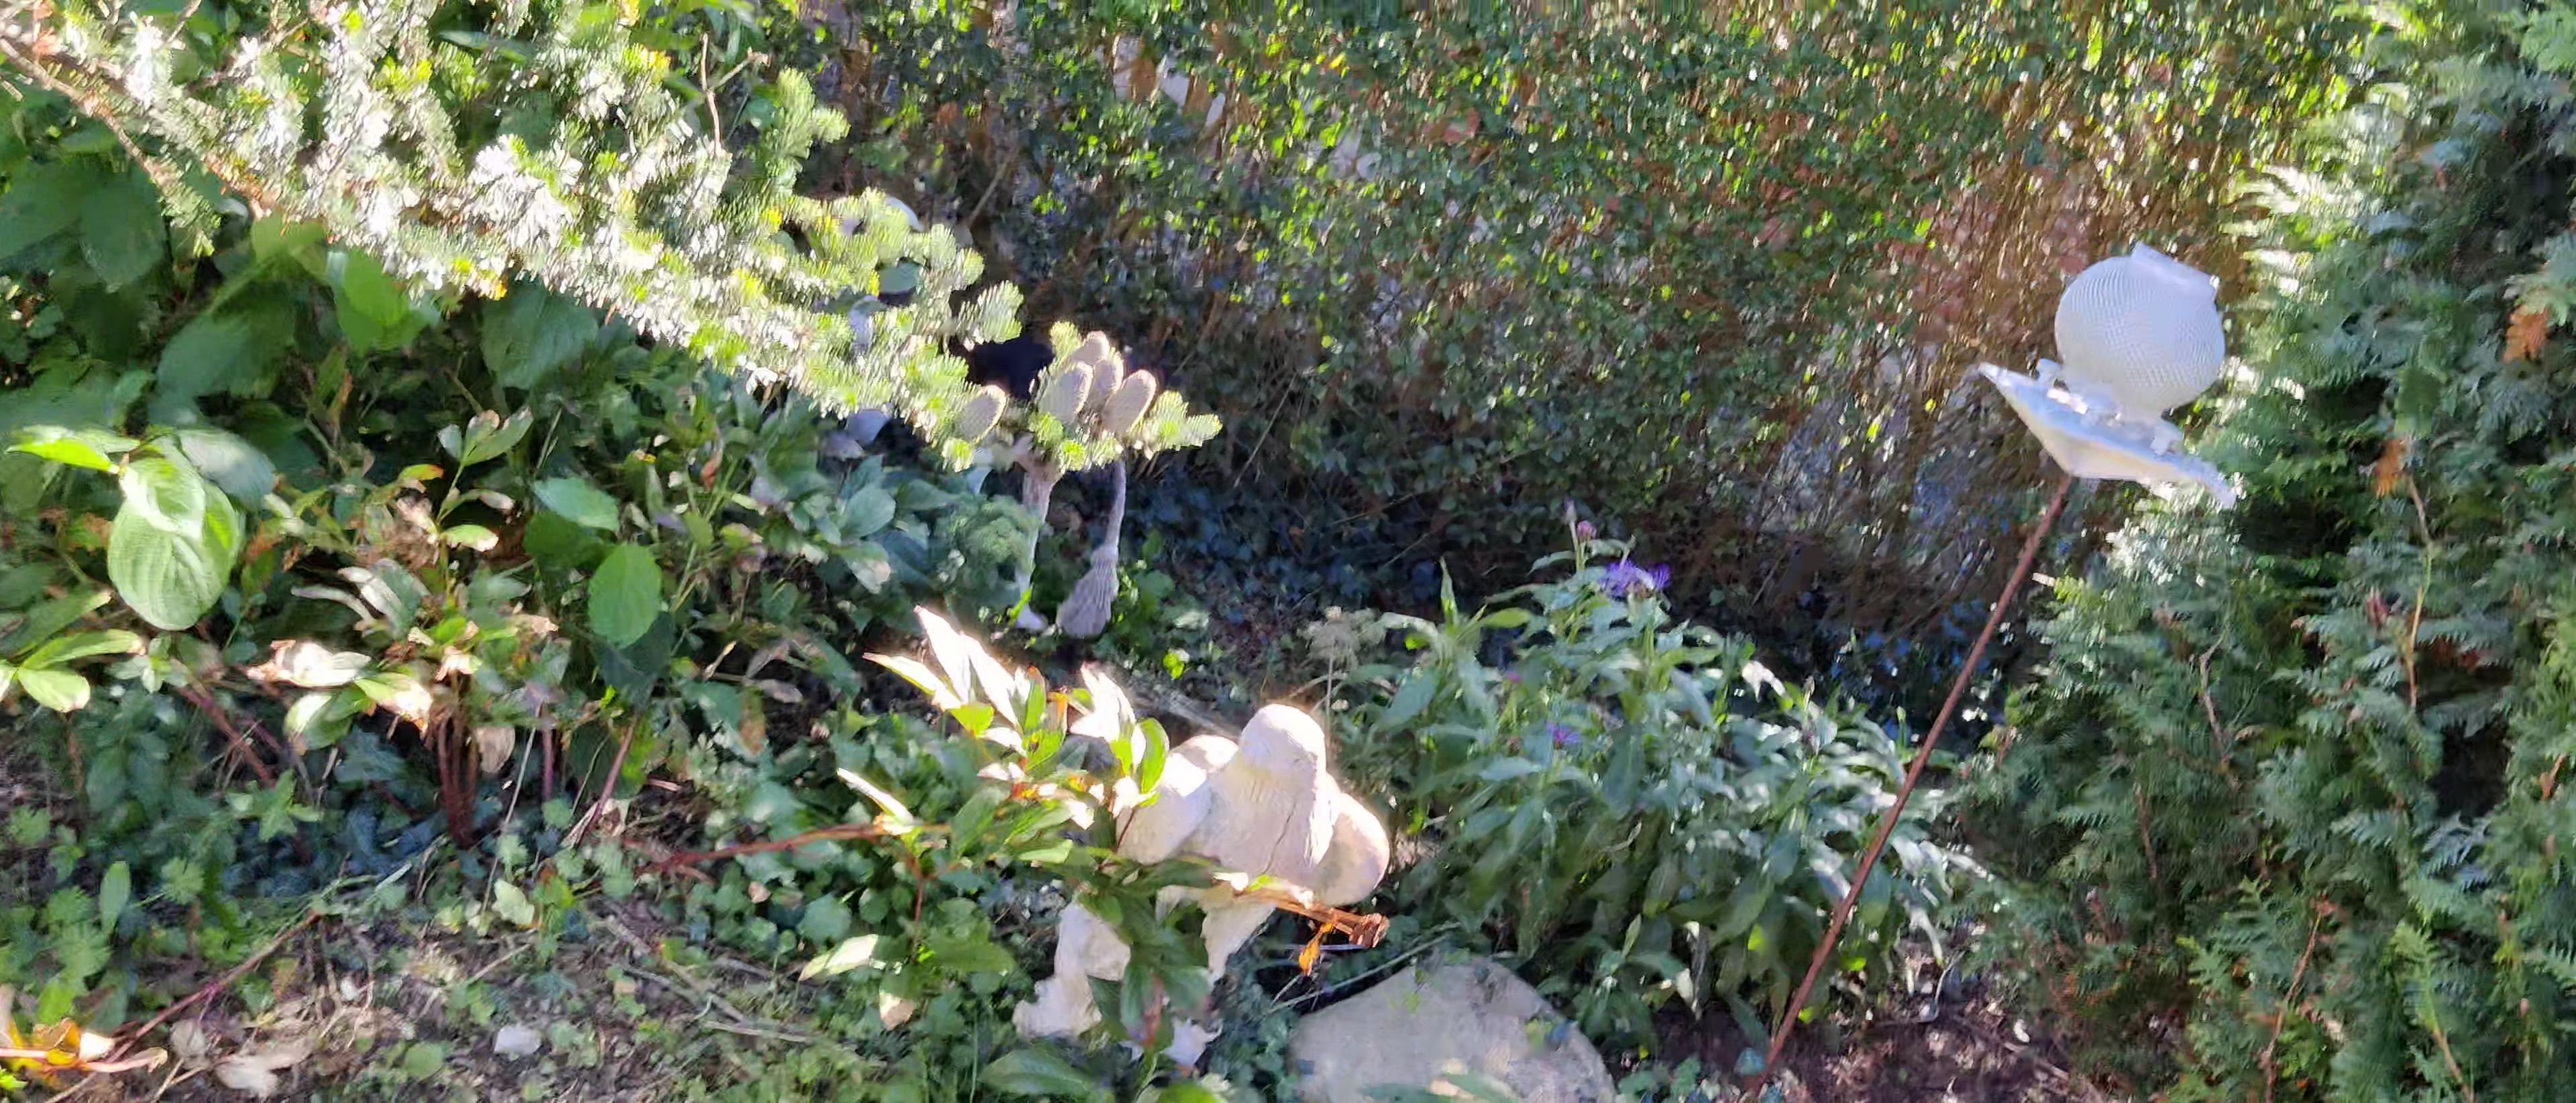Dog: (831, 186, 1078, 638)
